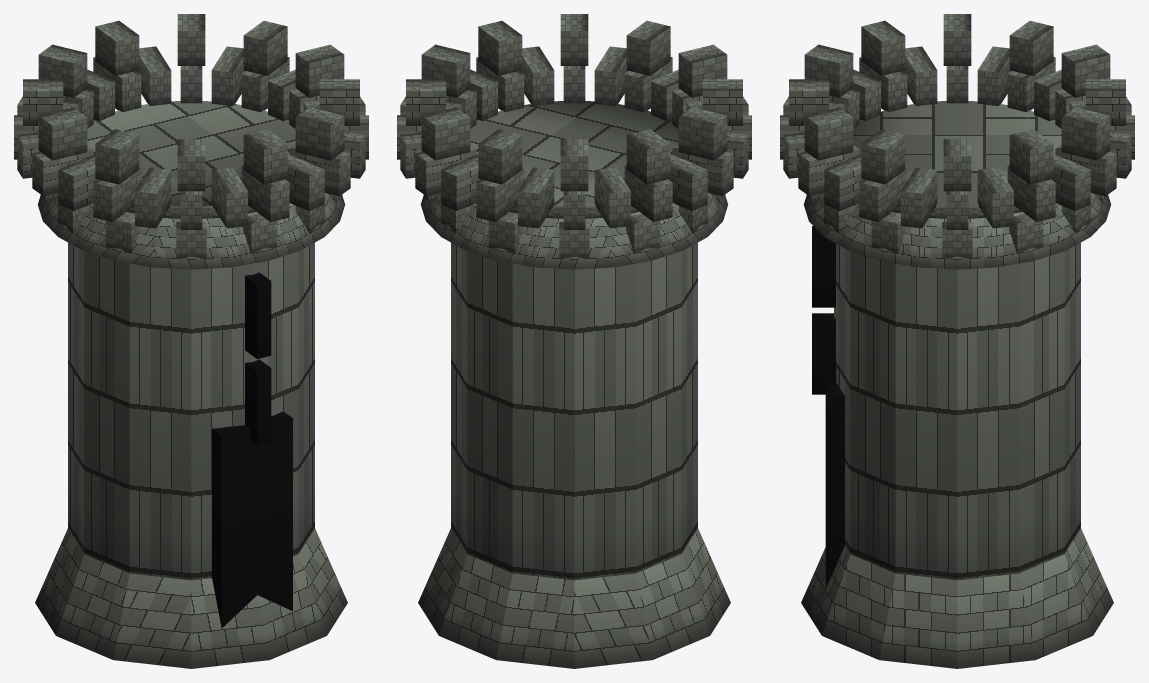
Rendered from tower_gate.gltf.
3 renders of one model, left to right at view 1: azimuth 30°, elevation 25°; view 2: azimuth 150°, elevation 25°; view 3: azimuth 270°, elevation 25°, orthographic.
Parts seen in each view (by area): view 1: tower_gate; view 2: tower_gate; view 3: tower_gate.
Part boxes in pixels (x1,y1,x2,y2): tower_gate: [14, 14, 368, 668]; tower_gate: [397, 14, 751, 668]; tower_gate: [780, 14, 1134, 668].
Bounding box in the file's own units: 1.29 × 2.08 × 1.29.
Materials: 1 (1 with a texture image).
